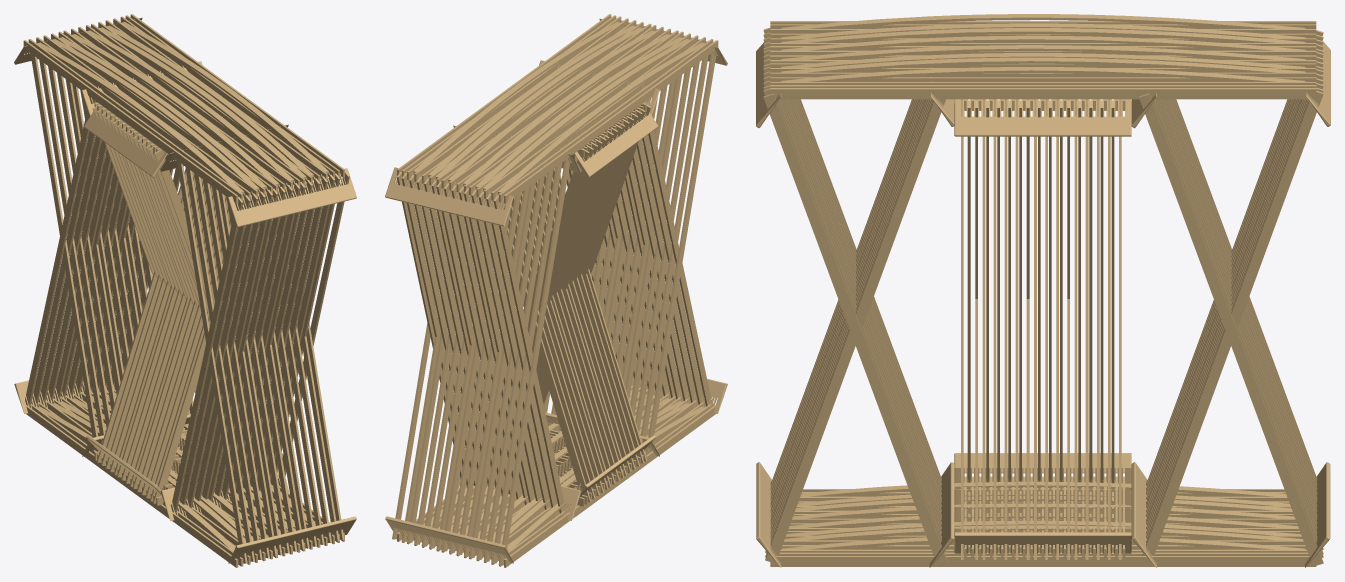
The picture shows the model from 3 angles, left to right: view 1: azimuth 30°, elevation 25°; view 2: azimuth 150°, elevation 25°; view 3: azimuth 270°, elevation 25°; orthographic projection. The views are drawn at different scales.
Visible parts, largest first — view 1: Tensio Stool v16; view 2: Tensio Stool v16; view 3: Tensio Stool v16.
Part boxes in pixels (left/top/right/bottom): Tensio Stool v16: left=14, top=14, right=356, bottom=567; Tensio Stool v16: left=385, top=14, right=727, bottom=567; Tensio Stool v16: left=756, top=14, right=1330, bottom=567.
Bounding box in the file's own units: 14.61 × 39.77 × 42.11.
